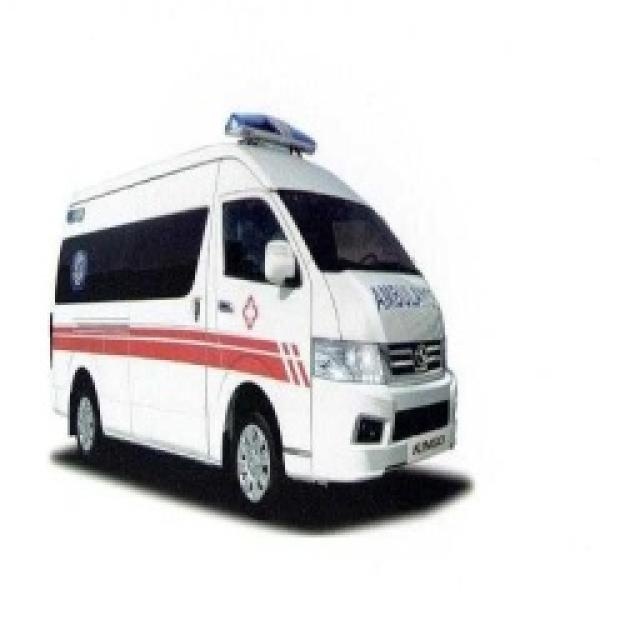emergency-vehicle: (26, 93, 500, 532)
